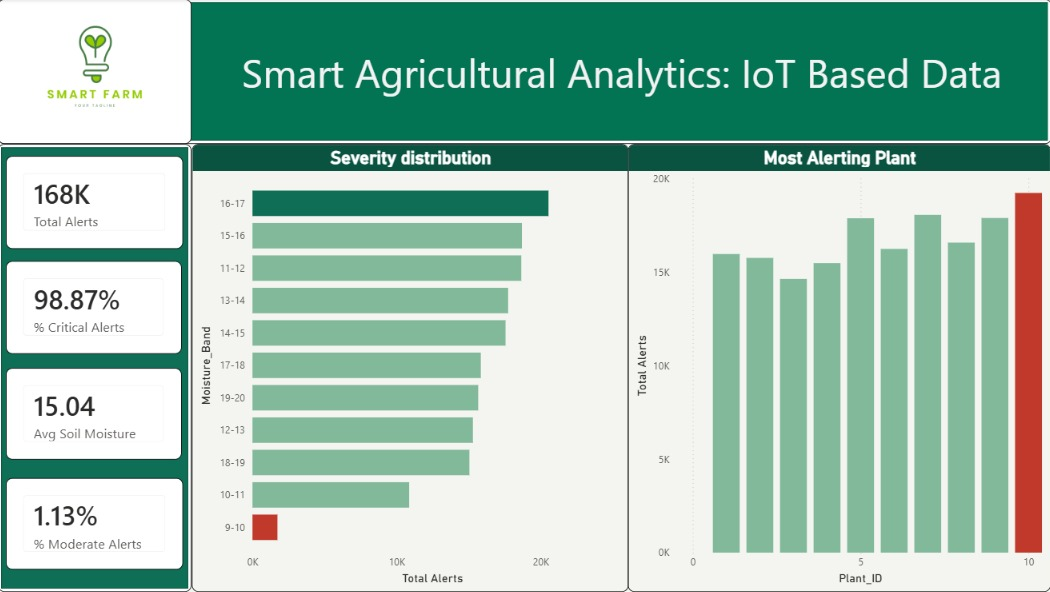

This screenshot's page, from the dashboard's own definition file:
{"tool":"powerbi","page":{"name":"Alert","canvas":[1280,720],"ordinal":1},"visuals":[{"type":"shape","box":[0,175.7,235.4,544.3],"z":0},{"type":"cardVisual","fields":{"Data":["_Measures.Total Alerts"]},"box":[10.1,191.1,215.2,112.7],"z":1000},{"type":"cardVisual","fields":{"Data":["_Measures.% Critical Alerts"]},"box":[10.1,317.7,213.9,112.7],"z":2000},{"type":"cardVisual","fields":{"Data":["_Measures.% Moderate Alerts"]},"box":[10.1,582.3,215.2,111.4],"z":3000},{"type":"cardVisual","fields":{"Data":["_Measures.Avg Soil Moisture"]},"box":[10.1,448.1,213.9,111.4],"z":4000},{"type":"columnChart","title":"Most Alerting Plant","fields":{"Category":["Dim_Plant.Plant_ID"],"Y":["_Measures.Total Alerts"]},"box":[765.2,176.1,513.9,544.3],"z":5000},{"type":"barChart","title":"Severity distribution","fields":{"Category":["Fact_MoistureAlerts.Moisture_Band"],"Y":["_Measures.Total Alerts"]},"box":[235.4,175.9,530.4,544.3],"z":6000},{"type":"shape","box":[0,0,1279.7,175.9],"z":7000},{"type":"image","box":[0,0,235.4,175.9],"z":8000},{"type":"textbox","box":[274.7,50.6,967.1,75.9],"z":9000}]}

Visuals, with their boxes in screenshot pixels (x1, y1, x2, y2), scaled from the page's 1280x720 canvas onto the 1050x592 screenshot:
shape: bbox(0, 144, 193, 591)
cardVisual - _Measures.Total Alerts: bbox(8, 157, 185, 250)
cardVisual - _Measures.% Critical Alerts: bbox(8, 261, 184, 354)
cardVisual - _Measures.% Moderate Alerts: bbox(8, 479, 185, 570)
cardVisual - _Measures.Avg Soil Moisture: bbox(8, 368, 184, 460)
"Most Alerting Plant" columnChart: bbox(628, 145, 1049, 591)
"Severity distribution" barChart: bbox(193, 145, 628, 591)
shape: bbox(0, 0, 1049, 145)
image: bbox(0, 0, 193, 145)
textbox: bbox(225, 42, 1019, 104)
